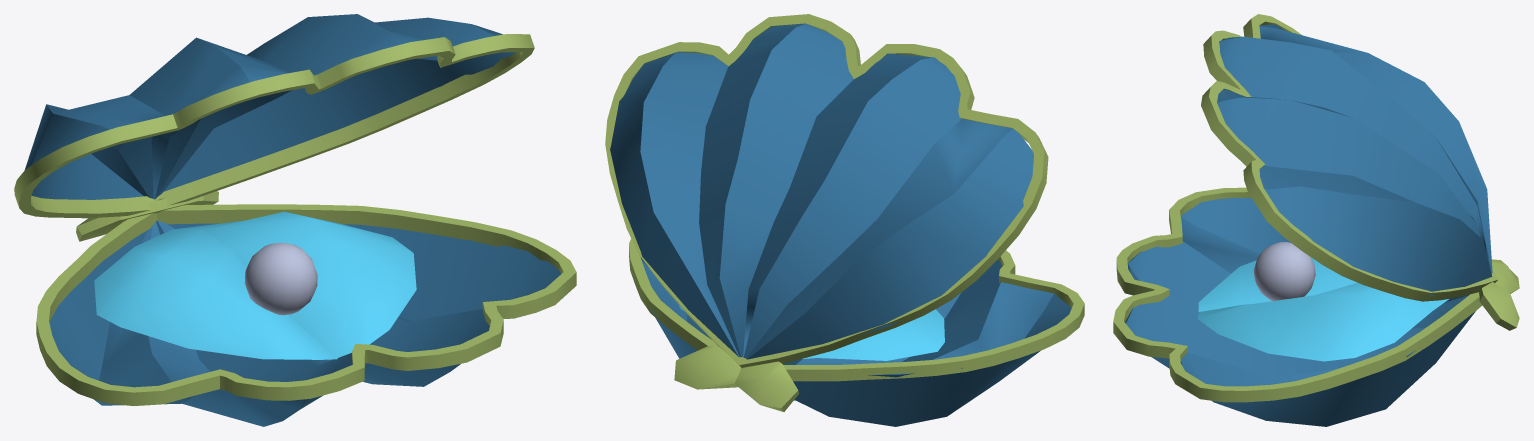
File: 2water_2.fbx
3 views of the same model, side by side, from view 1: azimuth 30°, elevation 25°; view 2: azimuth 150°, elevation 25°; view 3: azimuth 270°, elevation 25° (orthographic). The views are drawn at different scales.
Visible parts, largest first — view 1: Object028, Object027; view 2: Object027, Object028; view 3: Object027, Object028.
Part boxes in pixels (x1,y1,x2,y2): Object028: [36, 204, 576, 426]; Object027: [14, 14, 534, 241]; Object027: [605, 14, 1048, 411]; Object028: [629, 239, 1084, 426]; Object027: [1201, 14, 1519, 330]; Object028: [1113, 187, 1482, 426].
Size of the model in its own units: 102 by 86.38 by 70.11.
Materials: 1 (1 with a texture image).
